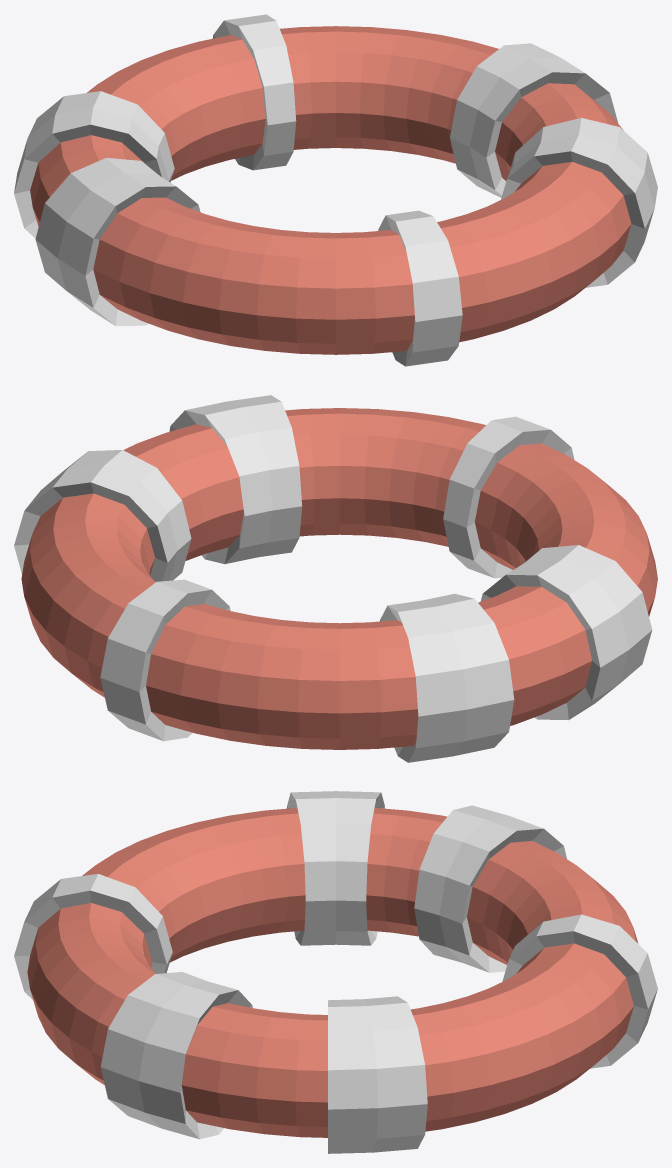
Rendered from LifePreserver.fbx.
3 views of the same model, one above another, from view 1: azimuth 30°, elevation 25°; view 2: azimuth 150°, elevation 25°; view 3: azimuth 270°, elevation 25° (orthographic). The views are drawn at different scales.
Parts seen in each view (by area): view 1: Torus; view 2: Torus; view 3: Torus.
Part boxes in pixels (<box>): Torus: <box>14,14,657,366</box>; Torus: <box>14,395,657,762</box>; Torus: <box>14,791,657,1153</box>.
Bounding box in the file's own units: 263 × 62.5 × 261.
